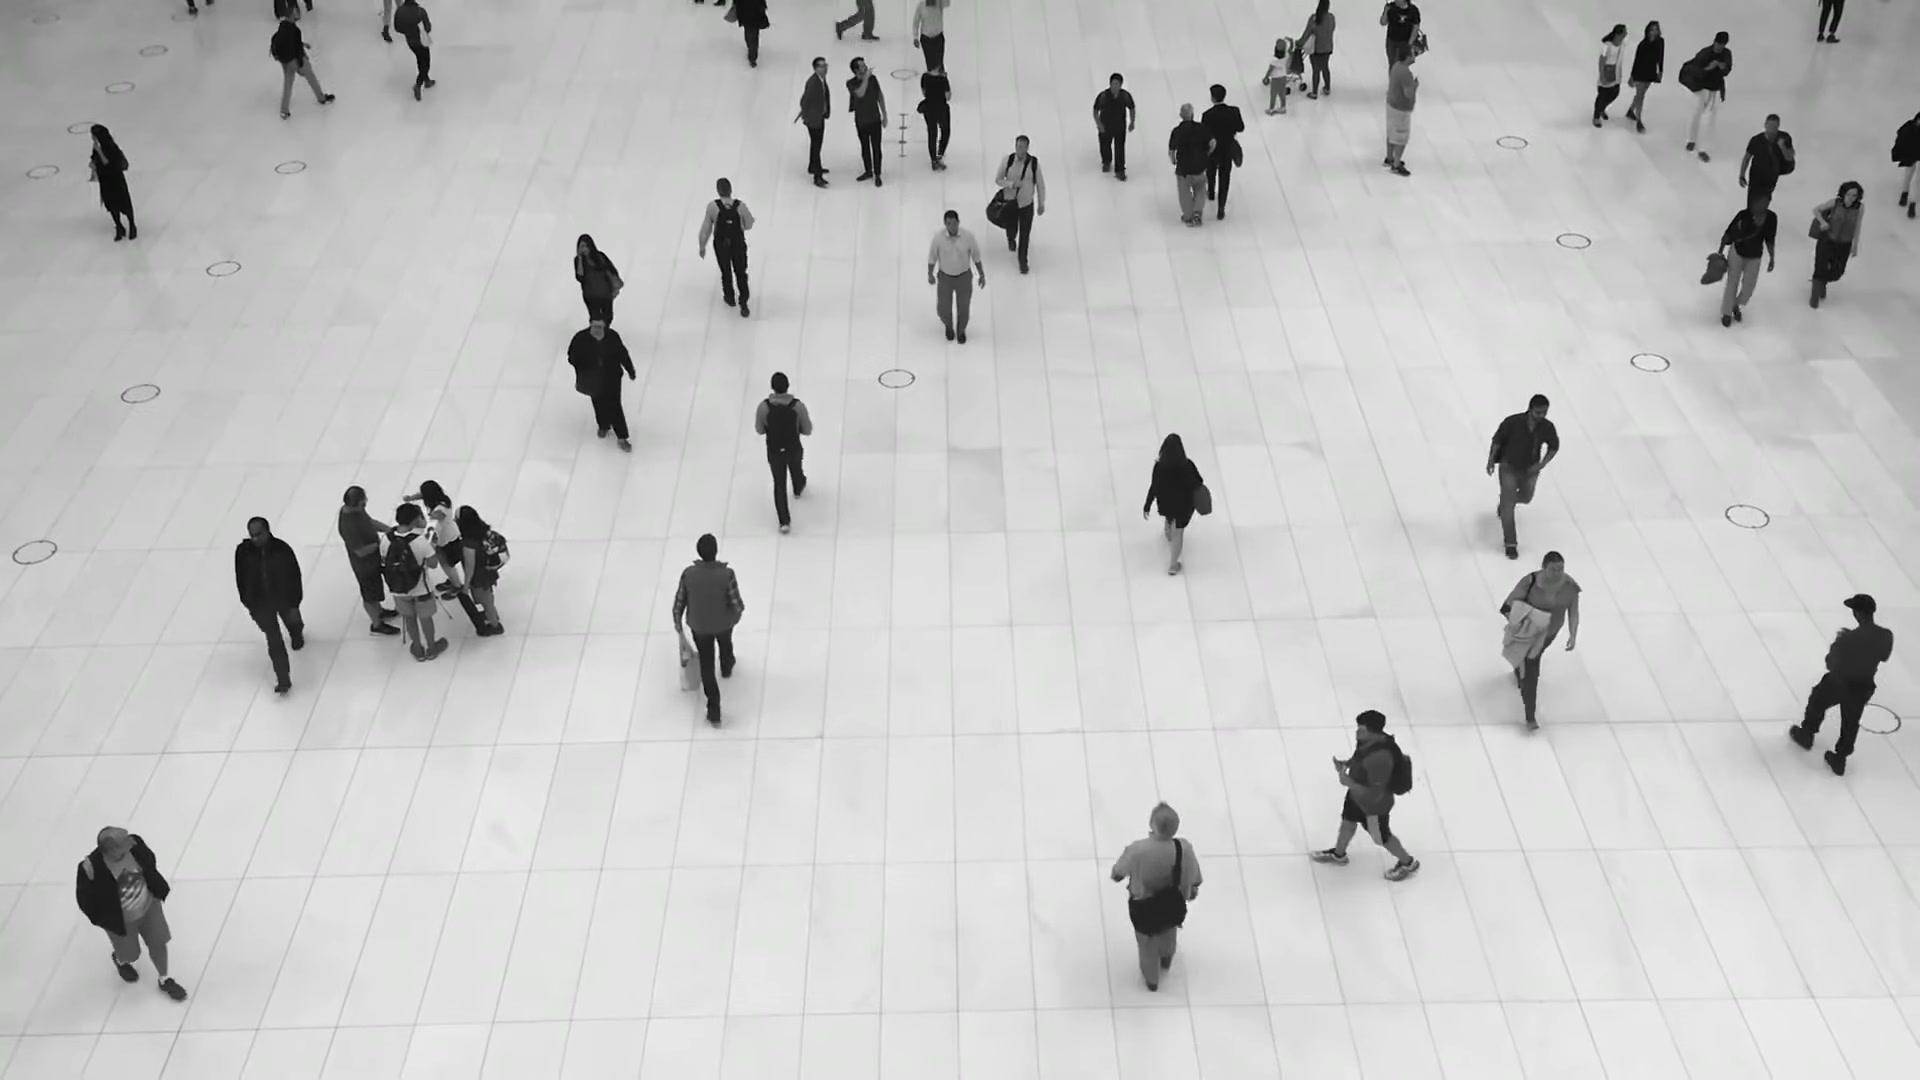person: (73, 826, 187, 1001), (1313, 708, 1421, 885), (1111, 802, 1202, 1000), (1802, 594, 1893, 776), (1499, 549, 1581, 730), (673, 532, 744, 723), (233, 514, 305, 695), (1485, 392, 1561, 556), (378, 503, 448, 663), (1142, 432, 1211, 576), (338, 486, 400, 634), (1716, 193, 1778, 337), (569, 312, 634, 449), (755, 370, 813, 525), (698, 177, 755, 316), (926, 210, 984, 346), (1805, 185, 1865, 317), (269, 4, 333, 118), (1680, 30, 1735, 159), (454, 505, 508, 637), (994, 134, 1045, 273), (1167, 103, 1216, 230), (1200, 83, 1245, 219), (1737, 109, 1795, 213), (88, 124, 137, 242), (846, 56, 888, 187), (420, 480, 461, 600), (1382, 46, 1420, 177), (1091, 73, 1136, 182), (1625, 19, 1665, 132), (574, 232, 623, 327), (797, 56, 831, 189), (916, 57, 952, 173), (1592, 24, 1629, 131), (394, 0, 434, 98), (1298, 0, 1336, 100), (911, 0, 949, 80), (1380, 0, 1421, 63), (1262, 44, 1289, 115)
